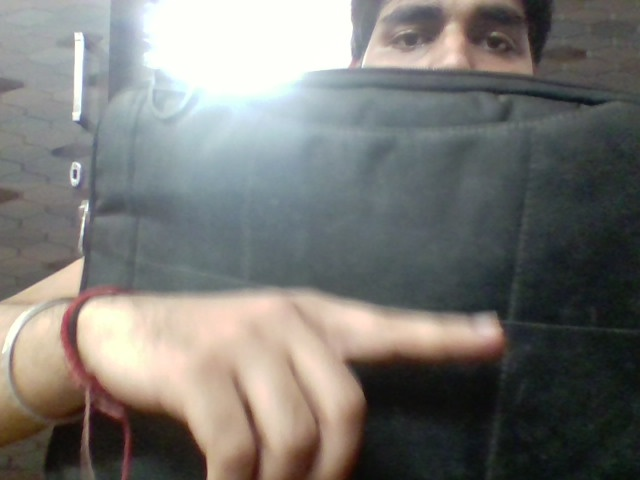p: (132, 257, 517, 480)
